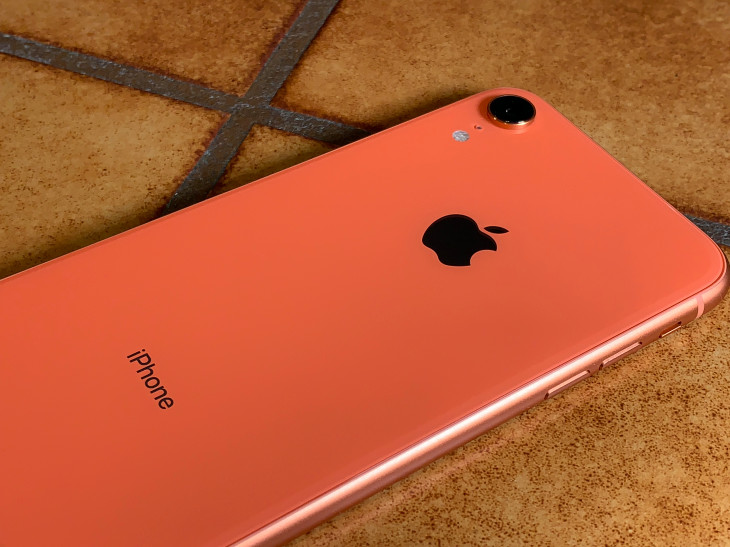apple: (406, 196, 535, 275)
